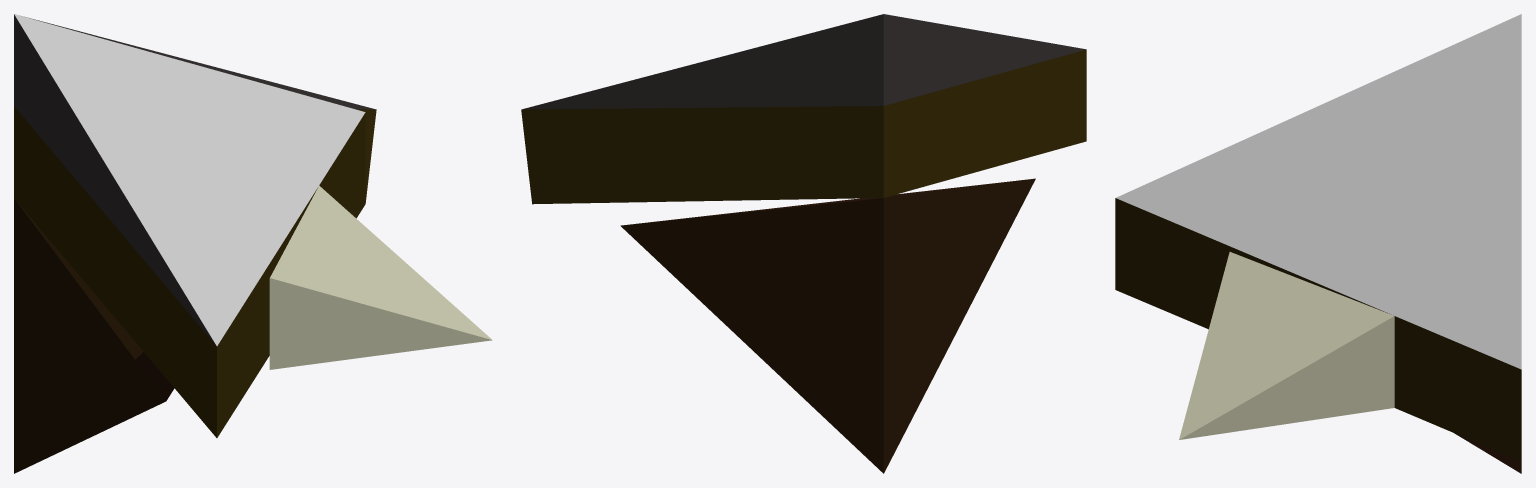
File: model_loc_1667_x.obj
3 renders of one model, left to right at view 1: azimuth 30°, elevation 25°; view 2: azimuth 150°, elevation 25°; view 3: azimuth 270°, elevation 25°, orthographic.
Visible parts, largest first — view 1: 949; view 2: 949; view 3: 949.
Boxes of the visible parts, x1,y1,x2,y2 form: 949: (14,14,492,473); 949: (521,14,1086,473); 949: (1115,14,1521,473).
Bounding box in the file's own units: 33 × 40 × 32.
